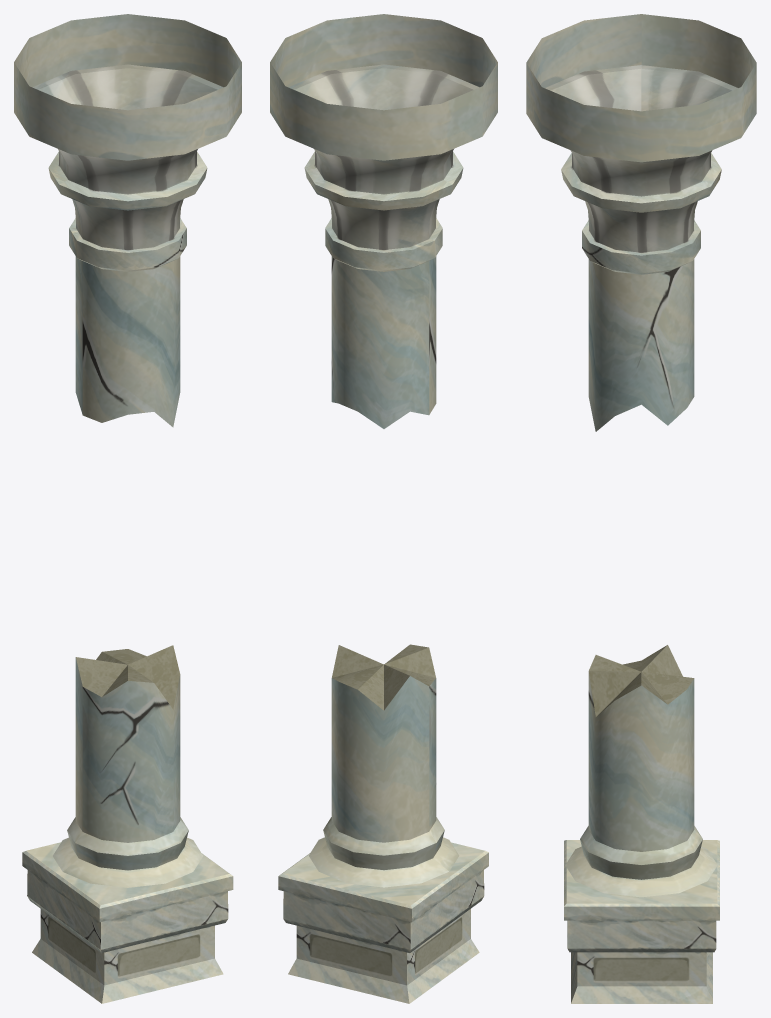
Rendered from pillar 4.fbx.
3 renders of one model, left to right at view 1: azimuth 30°, elevation 25°; view 2: azimuth 150°, elevation 25°; view 3: azimuth 270°, elevation 25°, orthographic.
Visible parts, largest first — view 1: pillar.004; view 2: pillar.004; view 3: pillar.004.
Part boxes in pixels (x1=…): pillar.004: x1=14, y1=14, x2=241, y2=1003; pillar.004: x1=270, y1=14, x2=497, y2=1003; pillar.004: x1=526, y1=14, x2=756, y2=1003.
Bounding box in the file's own units: 190 × 829 × 190.
